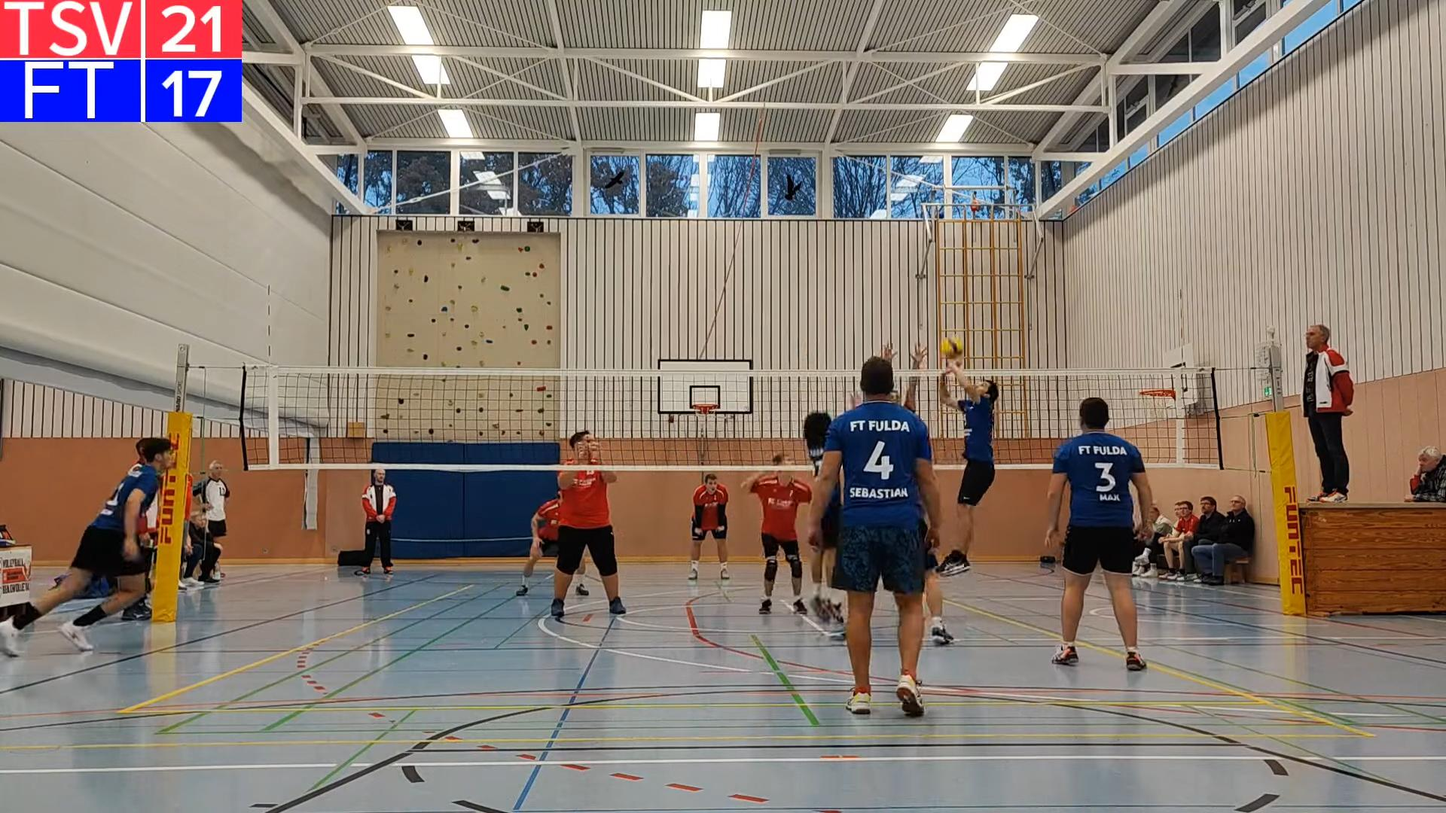alzata: (933, 359, 995, 574)
muro: (885, 335, 930, 410)
